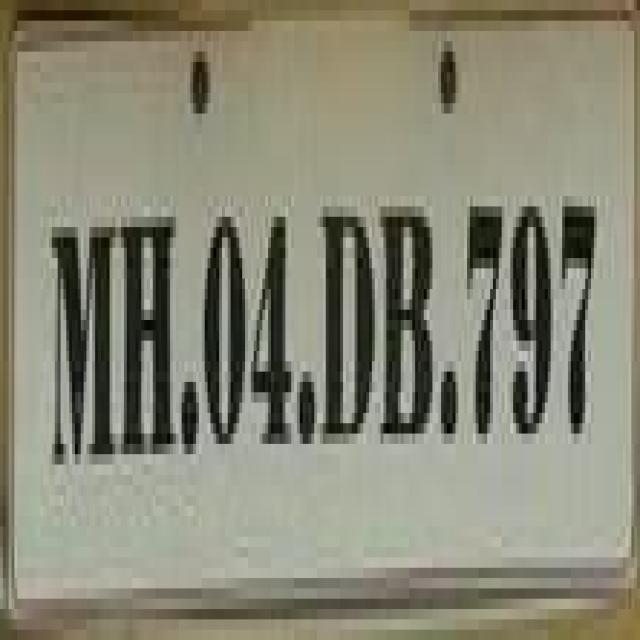license_plate: (0, 10, 611, 599)
